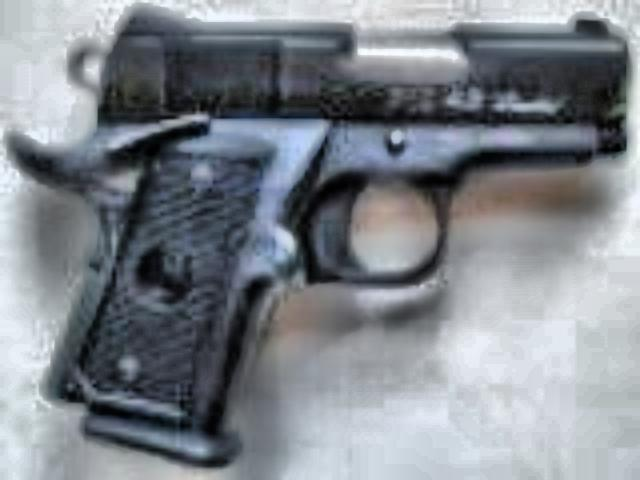pistol: (44, 8, 624, 452)
